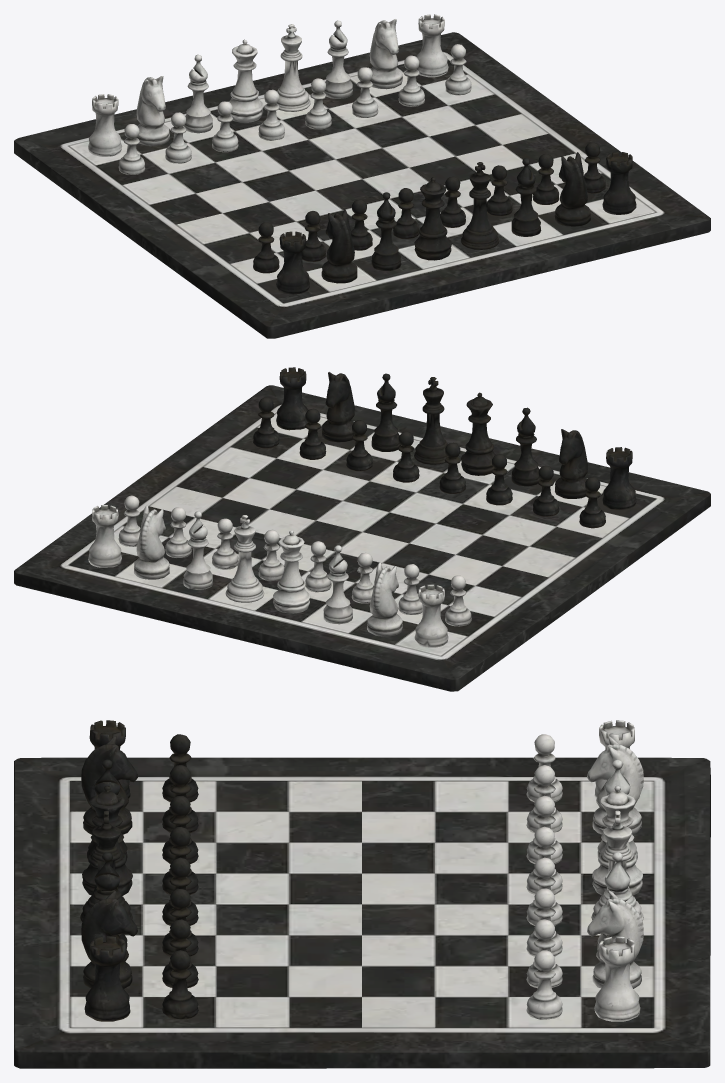
File: chess_set.glb
The picture shows the model from 3 angles, top to bottom: view 1: azimuth 30°, elevation 25°; view 2: azimuth 150°, elevation 25°; view 3: azimuth 270°, elevation 25°; orthographic projection. The views are drawn at different scales.
Visible parts, largest first — view 1: board, piece_rook_black_01, piece_rook_white_01, piece_king_black, piece_king_white; view 2: board, piece_rook_white_01, piece_rook_black_01, piece_king_white, piece_king_black; view 3: board, piece_rook_white_01, piece_rook_black_01, piece_king_white, piece_king_black.
Boxes of the visible parts, x1,y1,x2,y2 form: board: (14, 32, 710, 338); piece_rook_black_01: (253, 142, 636, 294); piece_rook_white_01: (88, 14, 471, 174); piece_king_black: (461, 162, 499, 249); piece_king_white: (276, 24, 310, 111); board: (14, 385, 710, 691); piece_rook_white_01: (88, 495, 471, 647); piece_rook_black_01: (253, 367, 636, 528); piece_king_white: (225, 515, 264, 602); piece_king_black: (414, 377, 448, 464); board: (14, 757, 710, 1068); piece_rook_white_01: (526, 720, 643, 1021); piece_rook_black_01: (81, 720, 198, 1021); piece_king_white: (591, 810, 643, 920); piece_king_black: (80, 811, 132, 921).
Size of the model in its own units: 0.5532 by 0.1122 by 0.5526.
3 materials, 3 textured.
